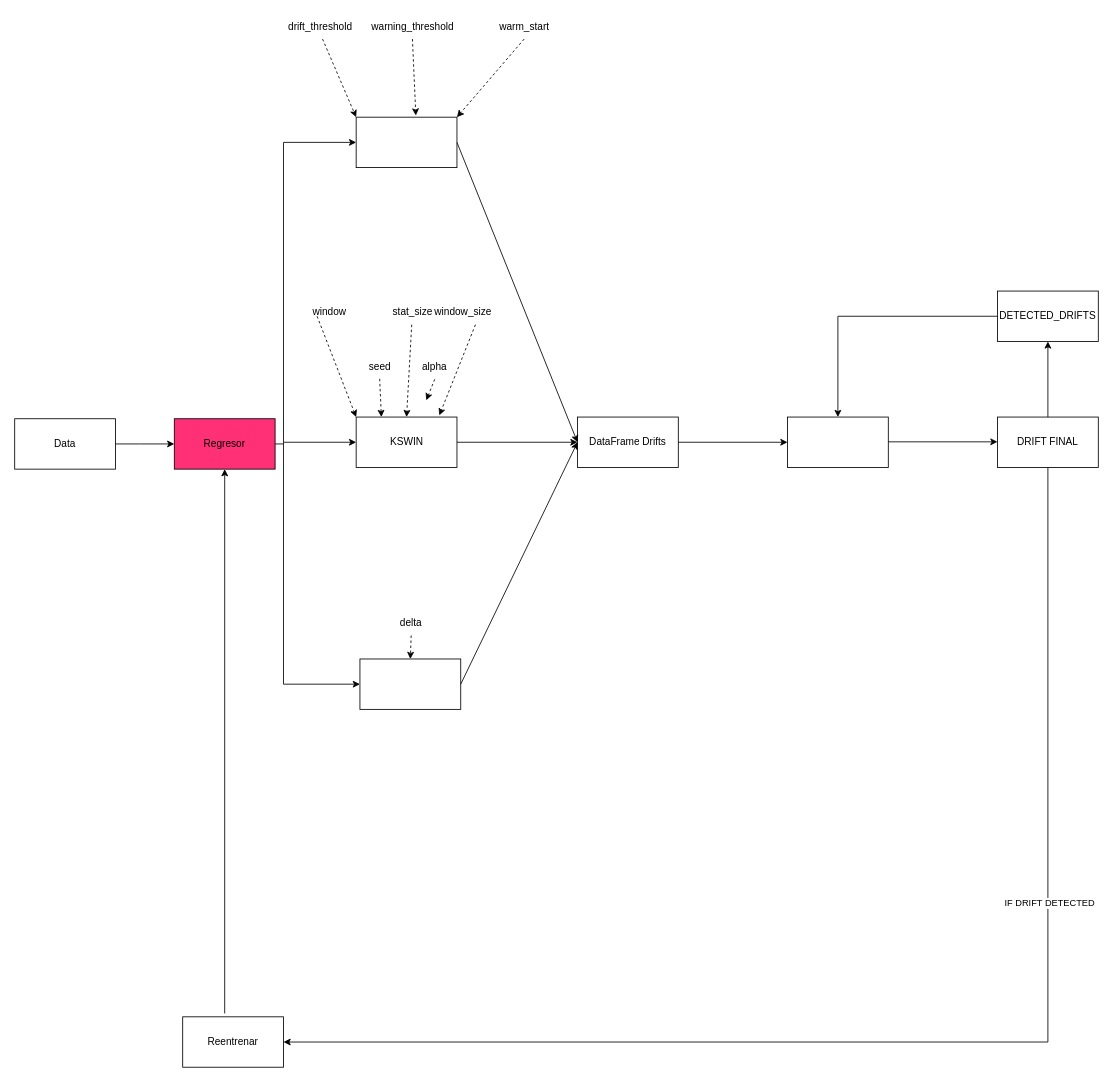
Some shapes in this 1113 by 1082 pixel diagram are drawn without their labels. Here are the shapes that lost their labels. From the top down, the centre of each, then its label:
At point 406,142: "PageHinkley".
At point 837,441: "Fuzzy".
At point 410,683: "ADWIN".
